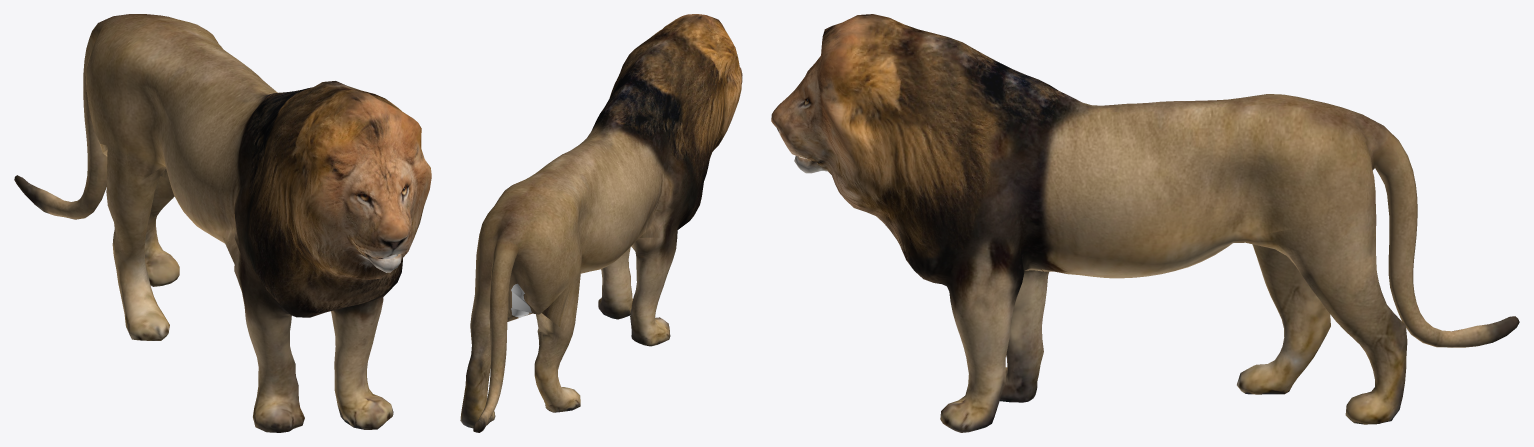
The model's file is lion.fbx.
3 renders of one model, left to right at view 1: azimuth 30°, elevation 25°; view 2: azimuth 150°, elevation 25°; view 3: azimuth 270°, elevation 25°, orthographic. The views are drawn at different scales.
Parts seen in each view (by area): view 1: Lion; view 2: Lion; view 3: Lion.
Boxes of the visible parts, <box> form: Lion: <box>14,14,431,432</box>; Lion: <box>460,14,742,432</box>; Lion: <box>771,14,1519,432</box>.
Size of the model in its own units: 78.03 by 202 by 358.
1 material, 1 textured.
